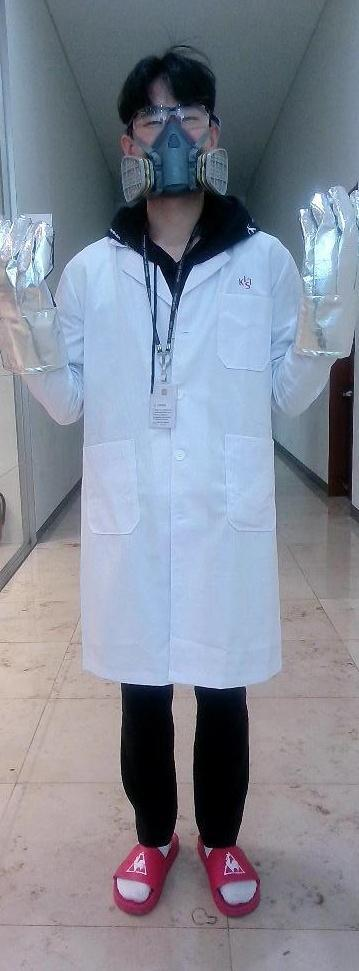lab_coat: (81, 244, 284, 694)
